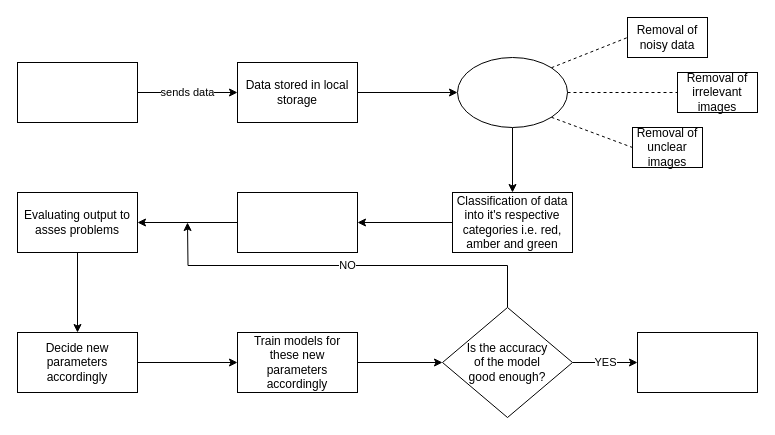
The diagram is 775 pixels wide and 435 high, and some of its shapes have lost their labels. Each missing label, with the centre of its shape:
Data cleaning and transformation: [512,92]
Hospital: [77,92]
Submit model: [697,362]
Training model based on these categories with particular parameters: [297,222]
